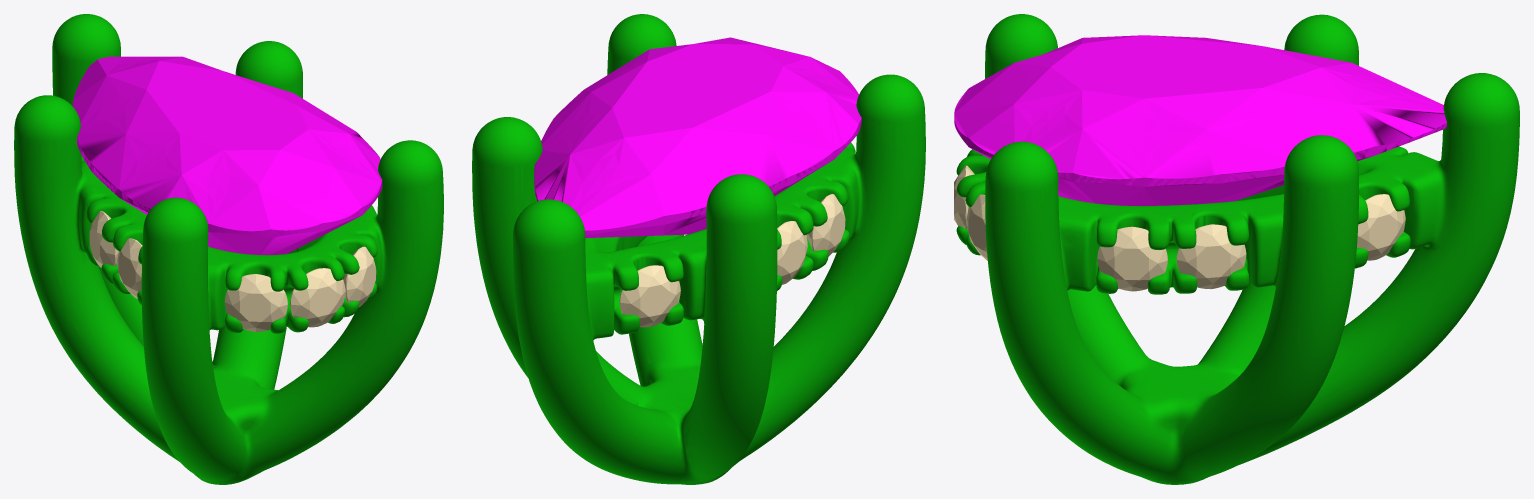
3 views of the same model, side by side, from view 1: azimuth 30°, elevation 25°; view 2: azimuth 150°, elevation 25°; view 3: azimuth 270°, elevation 25° (orthographic). The views are drawn at different scales.
Visible parts, largest first — view 1: Metal01, Diamond_Pear, Diamond_Round.004, Diamond_Round.005, Diamond_Round.006, Diamond_Round, Diamond_Round.001; view 2: Metal01, Diamond_Pear, Diamond_Round.007, Diamond_Round.001, Diamond_Round; view 3: Metal01, Diamond_Pear, Diamond_Round.003, Diamond_Round.002, Diamond_Round.008, Diamond_Round.006, Diamond_Round.005.
Part boxes in pixels (bbox=[...]): Metal01: bbox=[14, 14, 443, 484]; Diamond_Pear: bbox=[72, 56, 382, 255]; Diamond_Round.004: bbox=[224, 274, 287, 331]; Diamond_Round.005: bbox=[290, 268, 345, 327]; Diamond_Round.006: bbox=[343, 246, 376, 307]; Diamond_Round: bbox=[117, 238, 142, 298]; Diamond_Round.001: bbox=[89, 211, 118, 267]; Metal01: bbox=[472, 14, 925, 484]; Diamond_Pear: bbox=[534, 37, 861, 238]; Diamond_Round.007: bbox=[619, 265, 680, 327]; Diamond_Round.001: bbox=[777, 221, 807, 284]; Diamond_Round: bbox=[806, 194, 845, 256]; Metal01: bbox=[956, 14, 1519, 484]; Diamond_Pear: bbox=[954, 35, 1446, 205]; Diamond_Round.003: bbox=[1097, 226, 1167, 291]; Diamond_Round.002: bbox=[1176, 224, 1246, 289]; Diamond_Round.008: bbox=[1357, 194, 1405, 260]; Diamond_Round.006: bbox=[966, 194, 987, 260]; Diamond_Round.005: bbox=[954, 165, 974, 229].
Bounding box in the file's own units: 5.35 × 6.41 × 8.03.
